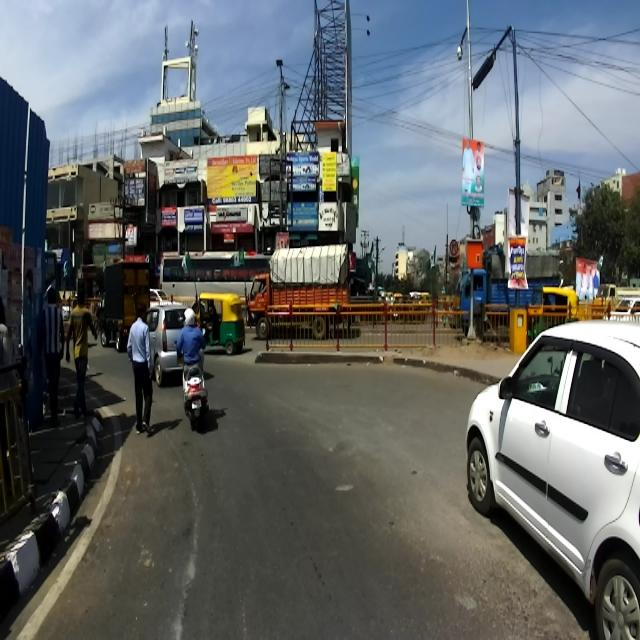Car_Maruti-Suzuki: (465, 321, 639, 639)
Car_TATA: (144, 305, 203, 387)
autorickshaw: (195, 291, 245, 354), (525, 285, 577, 344)
scooter: (173, 327, 209, 429)
truck: (248, 240, 354, 336), (454, 245, 557, 333)
